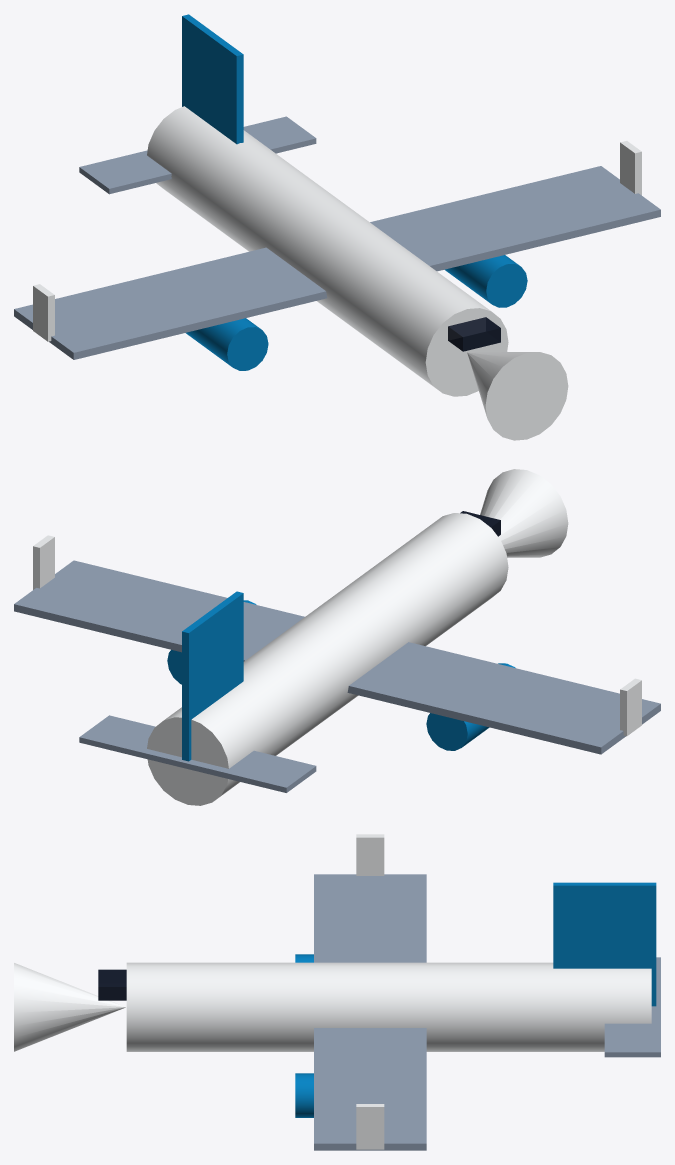
The model's file is airliner.glb.
3 renders of one model, top to bottom at view 1: azimuth 30°, elevation 25°; view 2: azimuth 150°, elevation 25°; view 3: azimuth 270°, elevation 25°, orthographic. The views are drawn at different scales.
Bounding box in the file's own units: 0.9971 × 0.2942 × 1.
